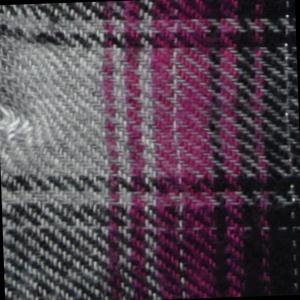Damage: (1, 5, 45, 158)
